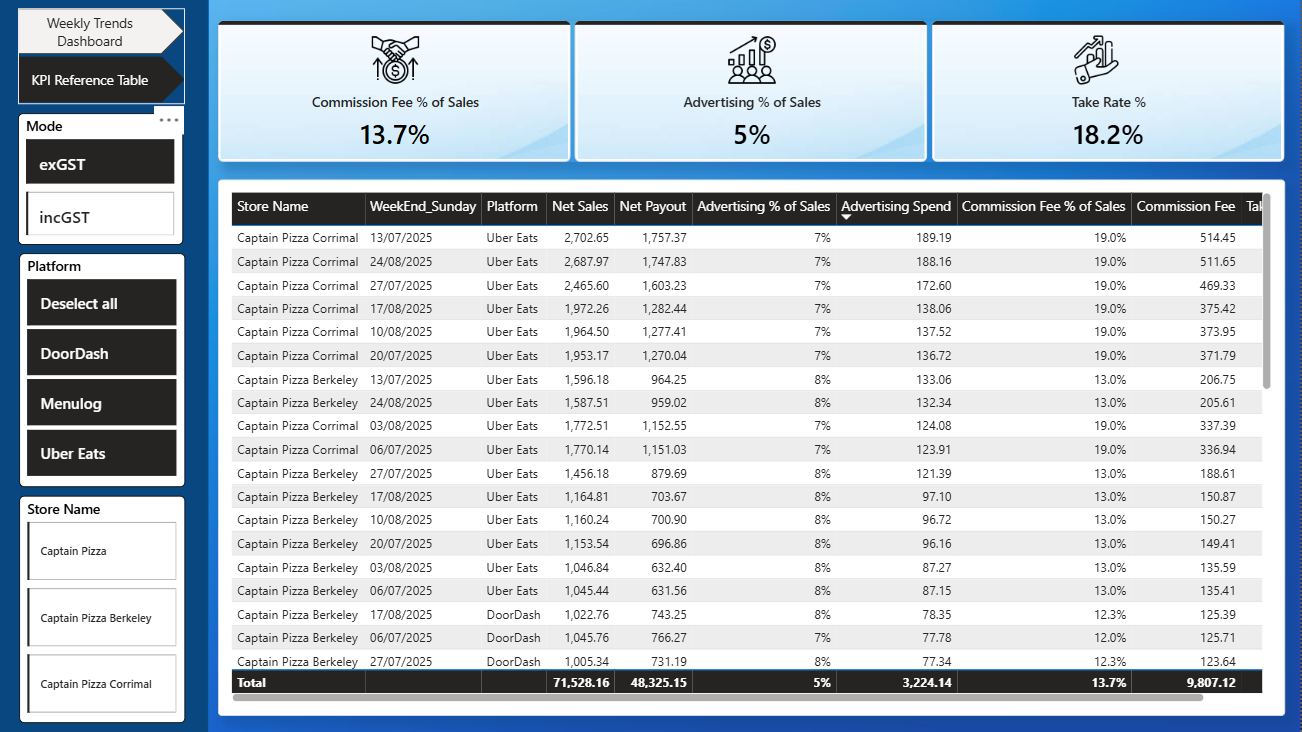

The page's visual inventory and layout, read from the dashboard file:
{"tool":"powerbi","page":{"name":"KPI Reference Table","canvas":[1280,720],"ordinal":1},"visuals":[{"type":"shape","box":[0,0,211.2,720],"z":0},{"type":"advancedSlicerVisual","fields":{"Values":["GST_Toggle.Mode"]},"box":[25,113.8,161.2,128.8],"z":1000},{"type":"cardVisual","fields":{"Data":["_Measures.Commission Fee % of Sales","_Measures.Advertising % of Sales","_Measures.Take Rate %"]},"box":[219.6,23.3,1044.3,138.6],"z":2000},{"type":"tableEx","fields":{"Values":["Fact_Payouts_Aggregated.Store Name","Fact_Payouts_Aggregated.WeekEnd_Sunday","Fact_Payouts_Aggregated.Platform","_Measures.Net Sales","_Measures.Net Payout","_Measures.Advertising % of Sales","_Measures.Advertising Spend","_Measures.Commission Fee % of Sales","_Measures.Commission Fee","_Measures.Take Rate %"]},"box":[219.5,178.1,1043.7,524.6],"z":3000},{"type":"pageNavigator","box":[25,11.2,163.8,93.8],"z":4000},{"type":"advancedSlicerVisual","fields":{"Values":["Dim_Platform.Platform"]},"box":[26,250.6,162.3,228.6],"z":5000},{"type":"advancedSlicerVisual","fields":{"Values":["Dim_Store.Store Name"]},"box":[26,488.3,162.3,222.1],"z":6000}]}

Visuals, with their boxes on the page's 1280x720 design canvas (x1, y1, x2, y2). These are canvas units, not pixel positions in the 1302x732 screenshot, which may show the page scaled, cropped or inside an application window:
shape: locate(0, 0, 211, 720)
advancedSlicerVisual - GST_Toggle.Mode: locate(25, 114, 186, 243)
cardVisual - _Measures.Commission Fee % of Sales x _Measures.Advertising % of Sales: locate(220, 23, 1264, 162)
tableEx - Fact_Payouts_Aggregated.Store Name x Fact_Payouts_Aggregated.WeekEnd_Sunday: locate(220, 178, 1263, 703)
pageNavigator: locate(25, 11, 189, 105)
advancedSlicerVisual - Dim_Platform.Platform: locate(26, 251, 188, 479)
advancedSlicerVisual - Dim_Store.Store Name: locate(26, 488, 188, 710)
